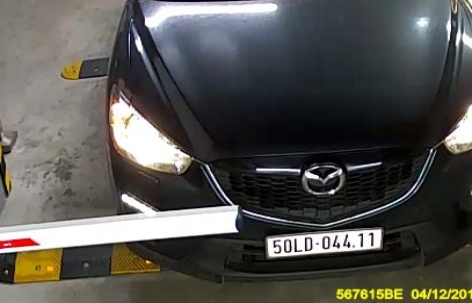plate: (264, 225, 387, 253)
